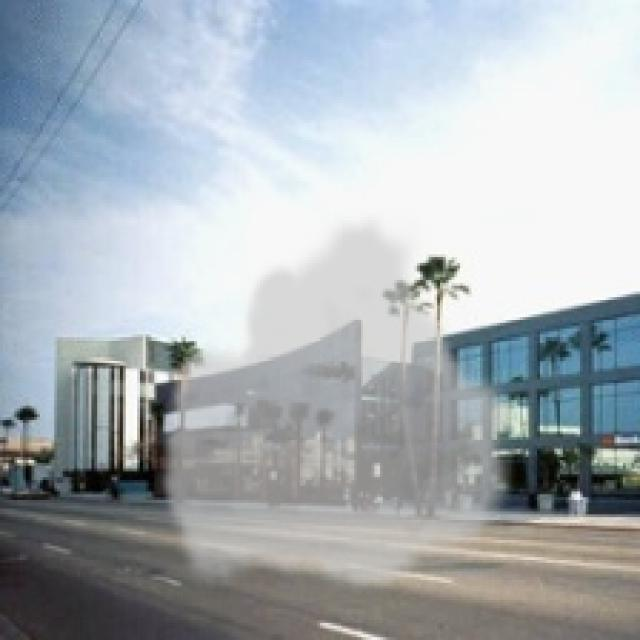smoke: (154, 209, 523, 594)
